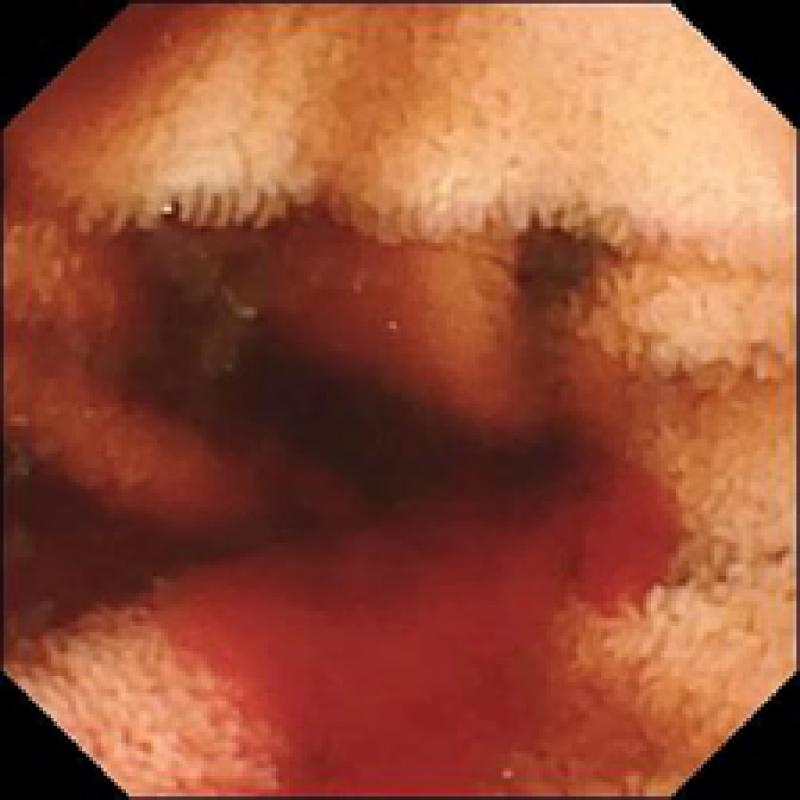bleeding: (118, 428, 686, 800)
